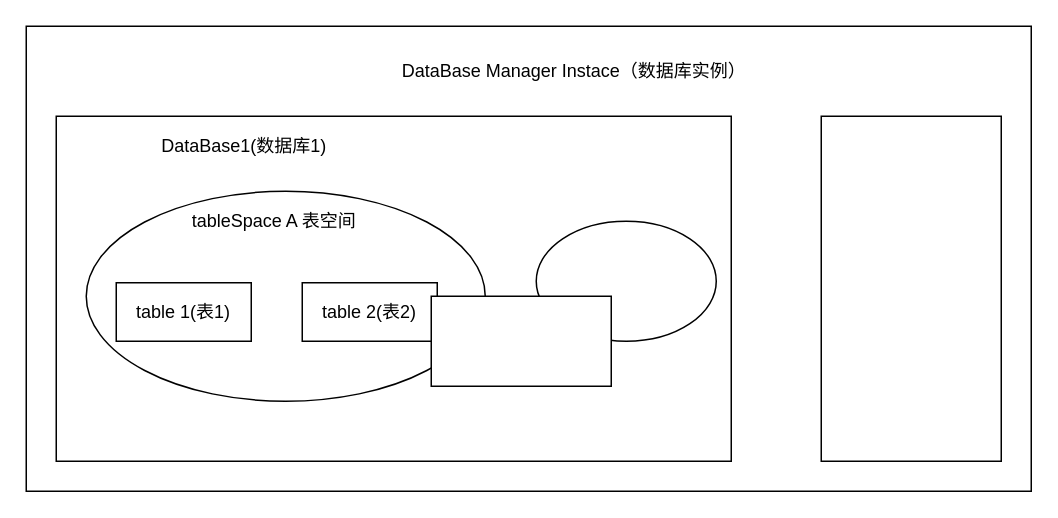
Some shapes in this 1058 by 518 pixel diagram are drawn without their labels. The box of each missing label's shape, as (x1, y1, x2, y2) in pixels:
DataBase2（数据库2）: (820, 115, 1001, 461)
tableSpaceB 表空间B: (535, 220, 716, 341)
